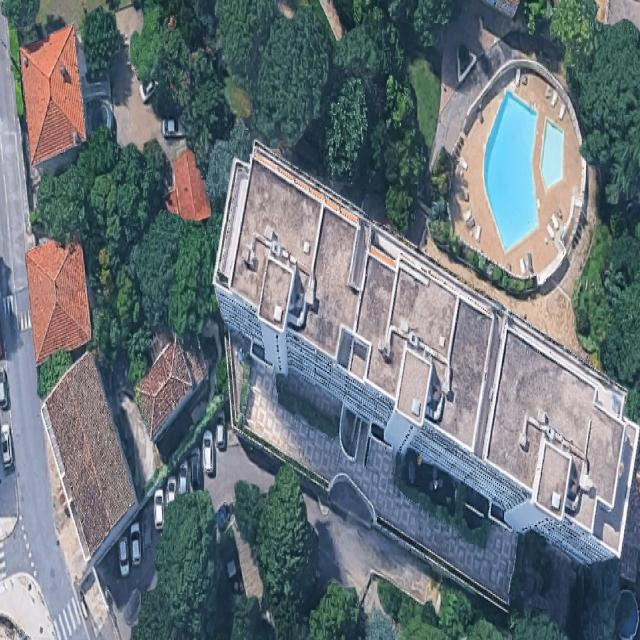immeuble: (128, 135, 640, 616)
maison: (25, 351, 151, 560), (116, 332, 218, 440), (16, 24, 88, 162), (24, 238, 92, 364), (155, 147, 211, 227)
